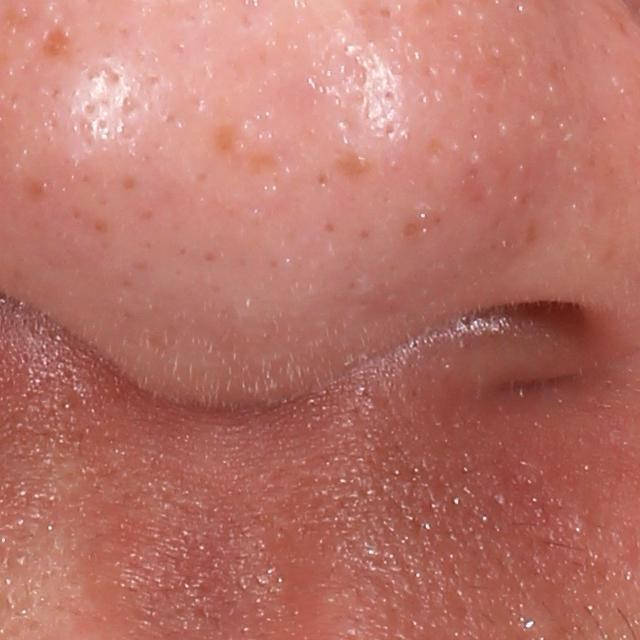melasma: (206, 115, 249, 158), (36, 22, 76, 65), (332, 145, 377, 180)
